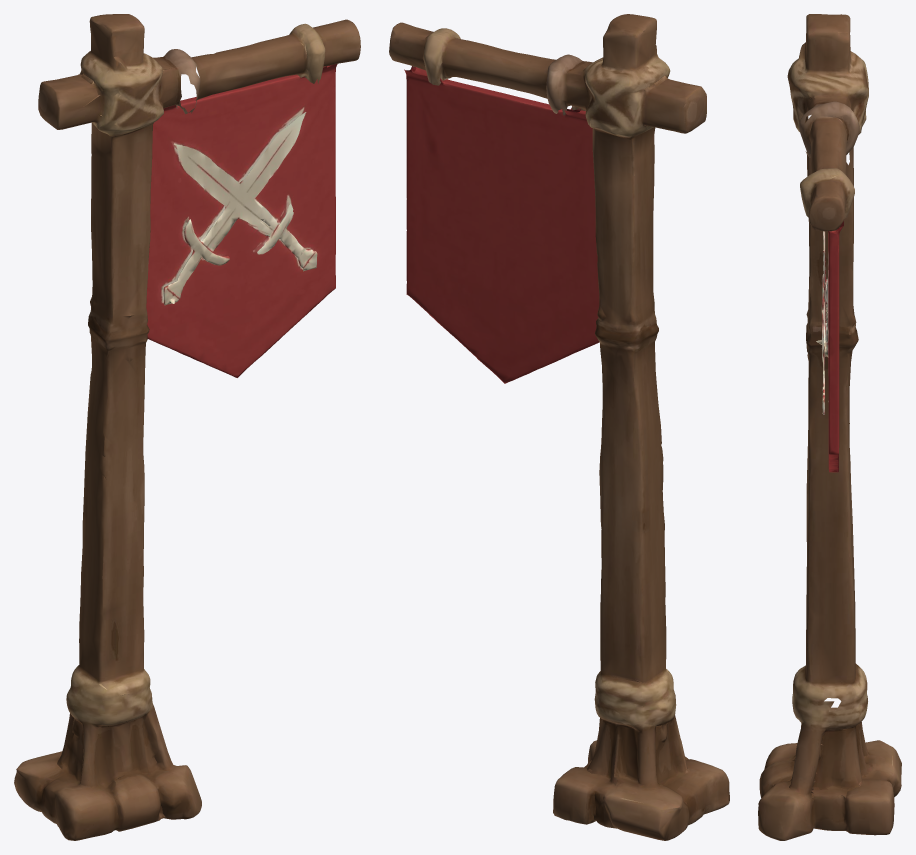
Rendered from BannerPostSwords.glb.
3 views of the same model, side by side, from view 1: azimuth 30°, elevation 25°; view 2: azimuth 150°, elevation 25°; view 3: azimuth 270°, elevation 25° (orthographic).
Parts seen in each view (by area): view 1: BannerPostSwords; view 2: BannerPostSwords; view 3: BannerPostSwords.
Boxes of the visible parts, x1,y1,x2,y2 form: BannerPostSwords: (14, 14, 360, 840); BannerPostSwords: (389, 14, 729, 840); BannerPostSwords: (758, 14, 901, 840).
Bounding box in the file's own units: 1.29 × 3.12 × 0.5136.
2 materials, 2 textured.
